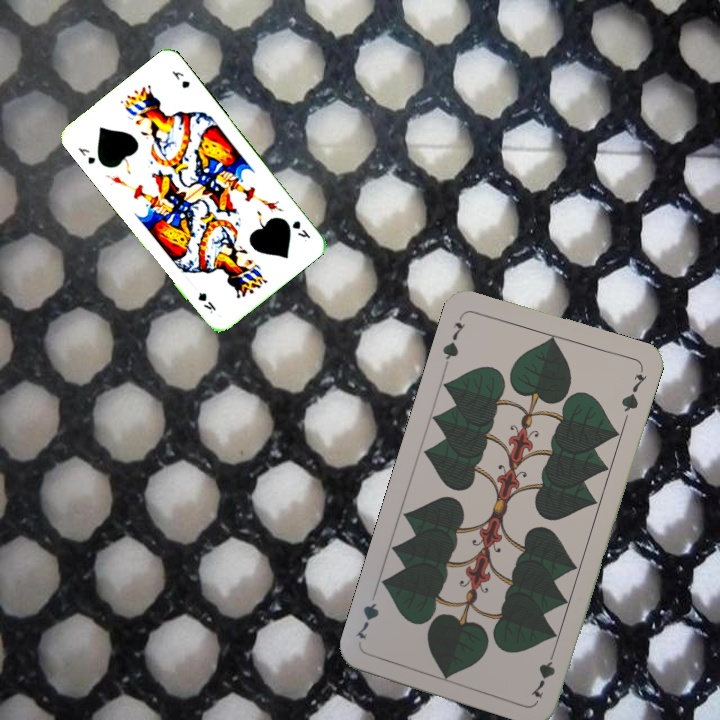G7: (527, 643, 559, 701), (438, 311, 468, 368)
GK: (288, 216, 313, 244), (74, 143, 98, 167)
